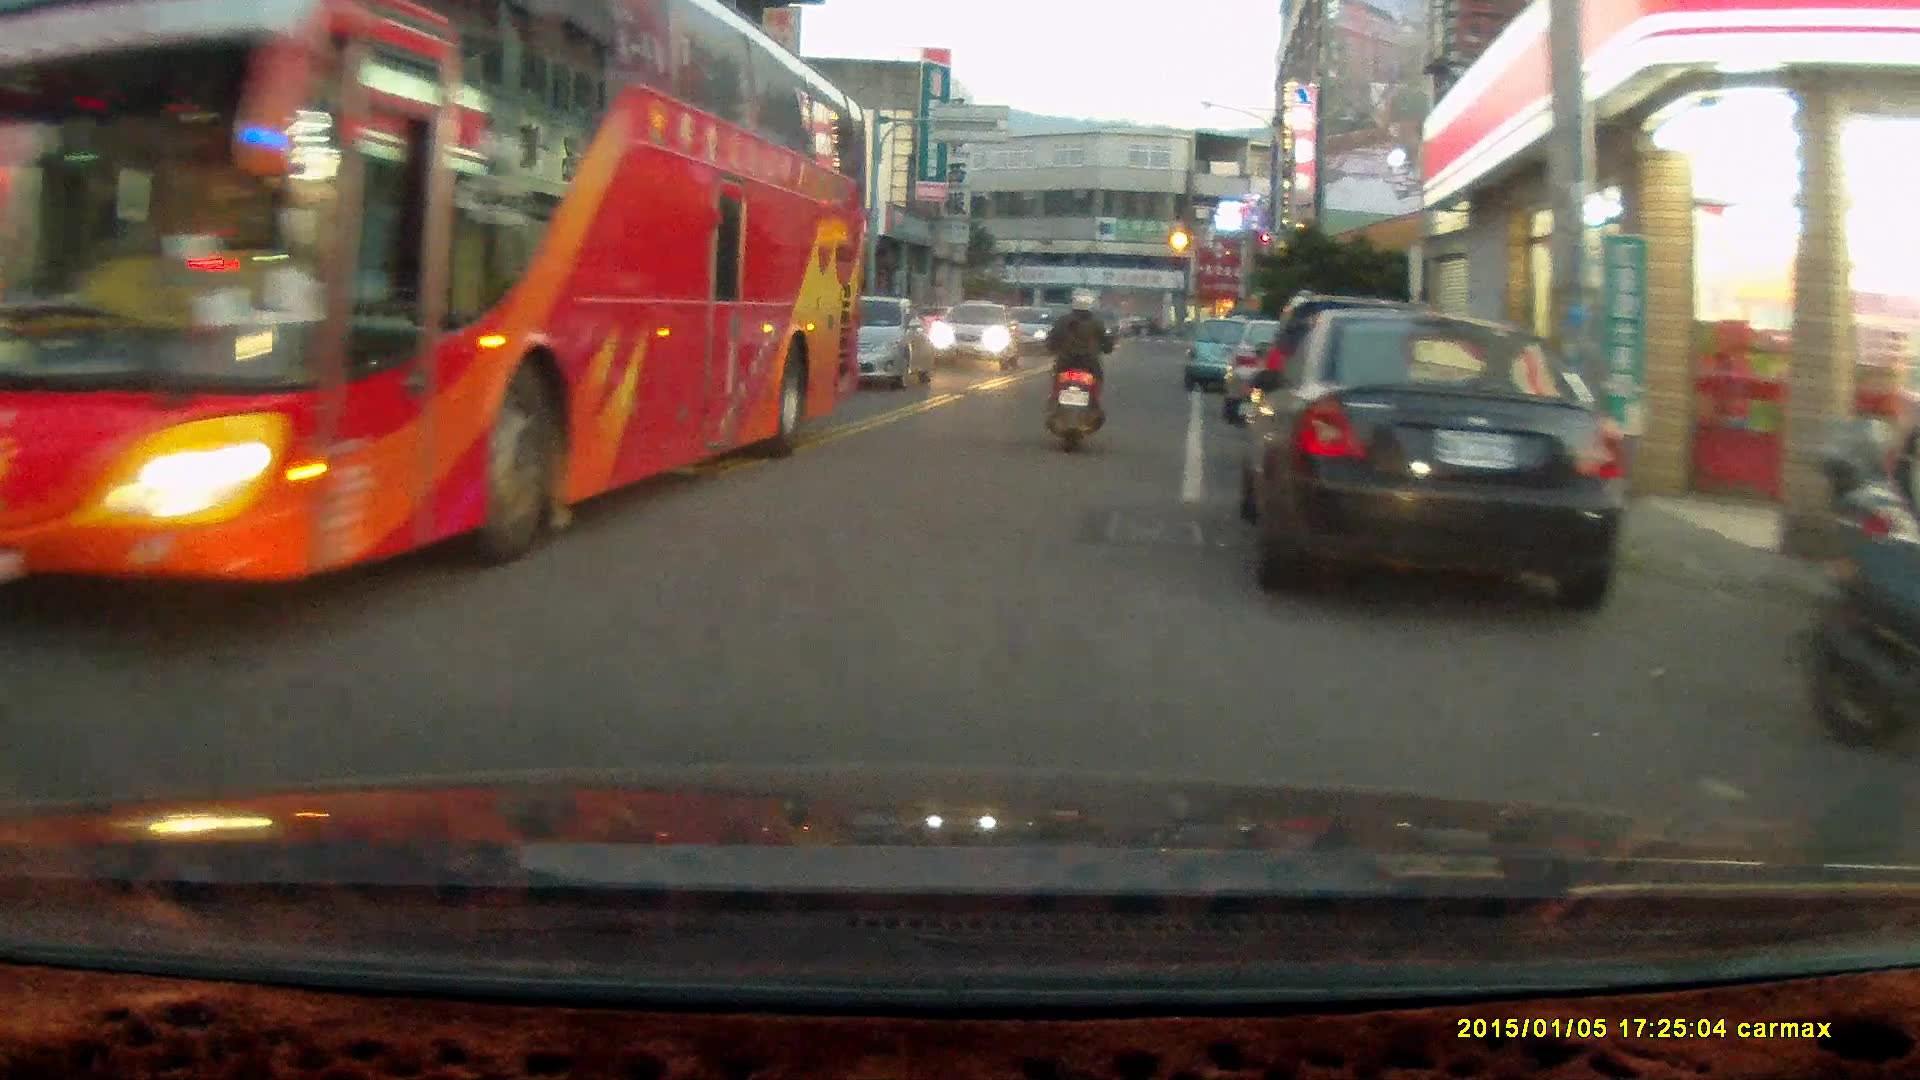rider: (1039, 282, 1114, 453)
vehicle: (1, 18, 871, 588), (1233, 305, 1629, 609), (809, 293, 931, 391), (1186, 314, 1268, 389), (927, 299, 1018, 368)
